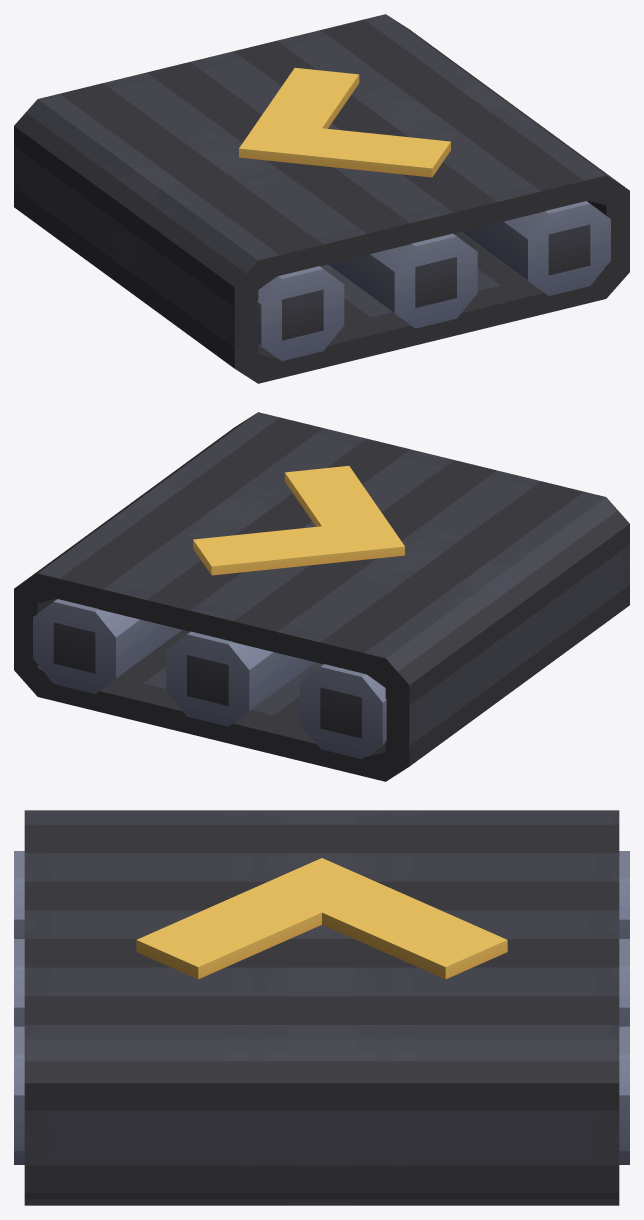
File: belt.glb
The picture shows the model from 3 angles, top to bottom: view 1: azimuth 30°, elevation 25°; view 2: azimuth 150°, elevation 25°; view 3: azimuth 270°, elevation 25°; orthographic projection. The views are drawn at different scales.
Parts seen in each view (by area): view 1: Belt; view 2: Belt; view 3: Belt.
Part boxes in pixels (x1,y1,x2,y2): Belt: (14,14,629,383); Belt: (14,412,629,781); Belt: (14,810,629,1205).
Bounding box in the file's own units: 1 × 0.32 × 1.
Materials: 1 (1 with a texture image).
